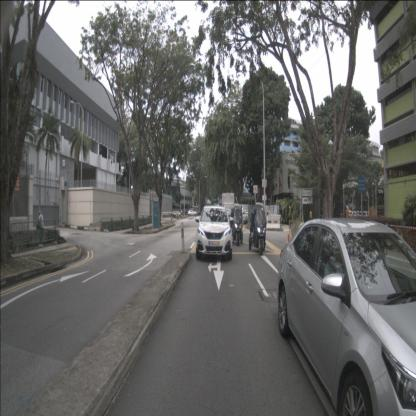barrier: (264, 214, 281, 230)
